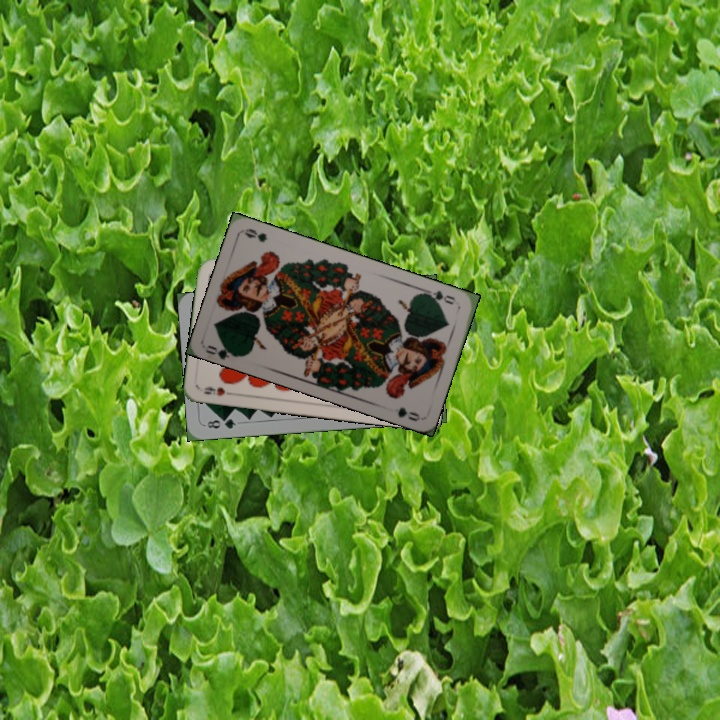G8: (203, 414, 238, 431)
GO: (202, 339, 243, 361), (421, 286, 457, 307)
H9: (200, 382, 227, 398)
